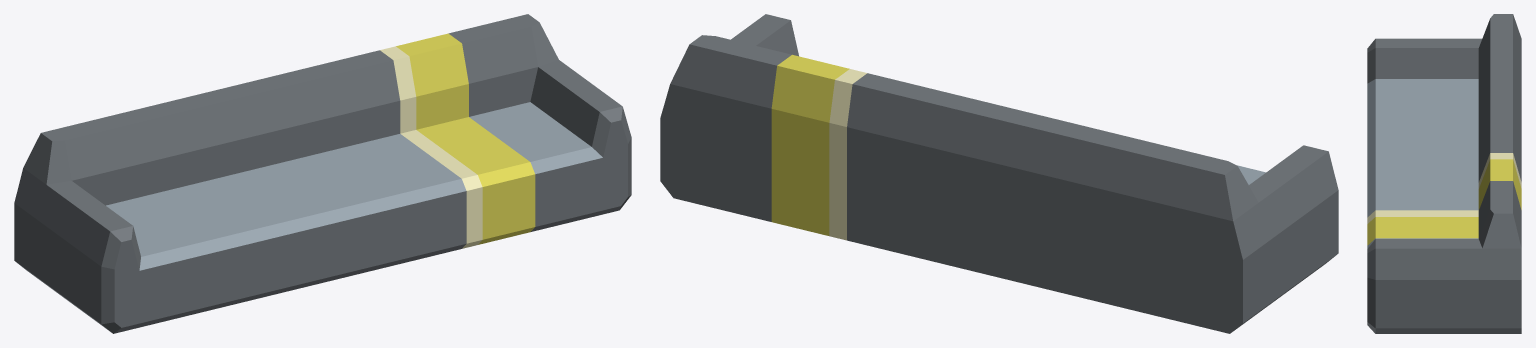
Rendered from Arrivals Couch.fbx.
The picture shows the model from 3 angles, left to right: view 1: azimuth 30°, elevation 25°; view 2: azimuth 150°, elevation 25°; view 3: azimuth 270°, elevation 25°; orthographic projection. The views are drawn at different scales.
Visible parts, largest first — view 1: pCube5; view 2: pCube5; view 3: pCube5.
Boxes of the visible parts, <box> form: pCube5: <box>14,14,631,333</box>; pCube5: <box>660,14,1338,333</box>; pCube5: <box>1367,14,1521,333</box>.
Bounding box in the file's own units: 2 × 0.5 × 0.6.
